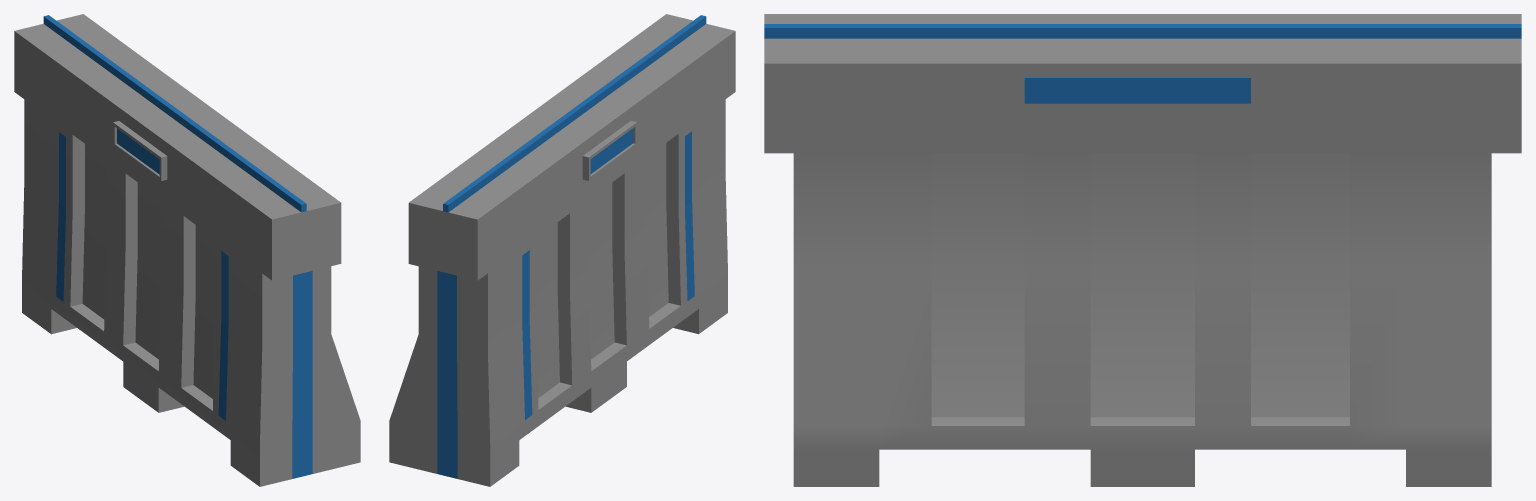
Rendered from trafficblock_1.fbx.
The picture shows the model from 3 angles, left to right: view 1: azimuth 30°, elevation 25°; view 2: azimuth 150°, elevation 25°; view 3: azimuth 270°, elevation 25°; orthographic projection. The views are drawn at different scales.
Visible parts, largest first — view 1: trafficblock_1; view 2: trafficblock_1; view 3: trafficblock_1.
Part boxes in pixels (x1,y1,x2,y2): trafficblock_1: [14, 14, 360, 486]; trafficblock_1: [389, 14, 735, 486]; trafficblock_1: [764, 14, 1521, 486].
Bounding box in the file's own units: 0.3559 × 0.9145 × 1.52.
